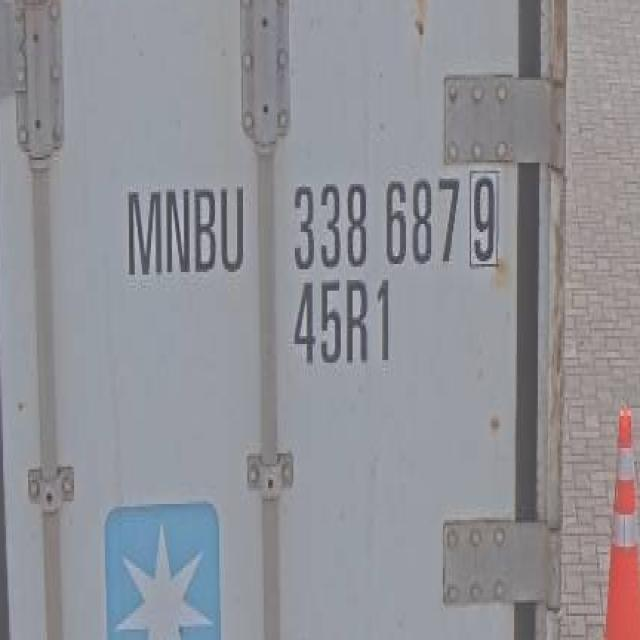dv: (466, 161, 503, 269)
owner: (121, 168, 246, 289)
serial: (285, 160, 461, 273)
size: (288, 275, 405, 374)
